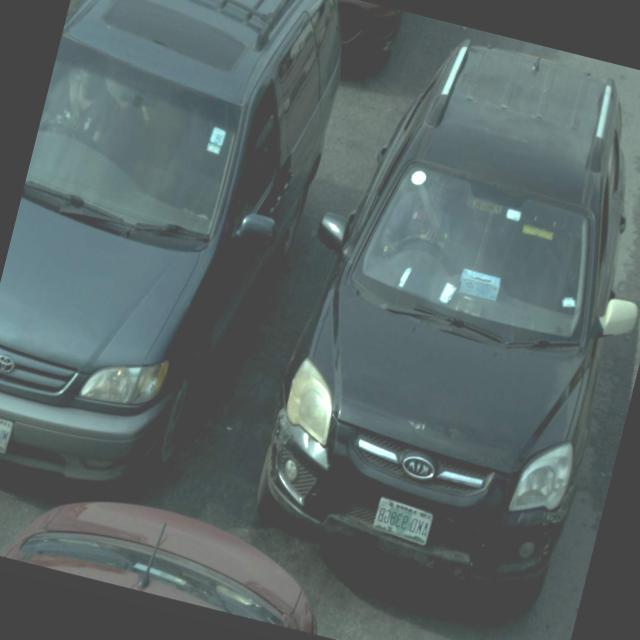windshield: (2, 34, 246, 264), (346, 153, 598, 354)
